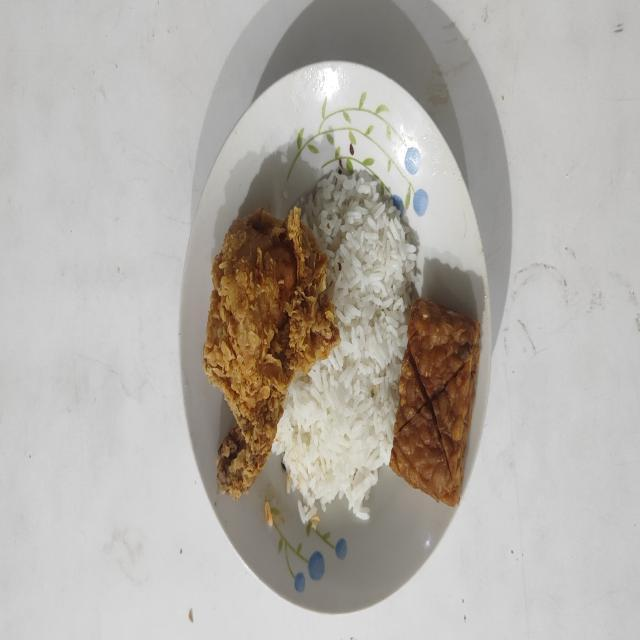nasi_putih: (273, 170, 422, 522)
tempe_goreng: (390, 298, 480, 506)
